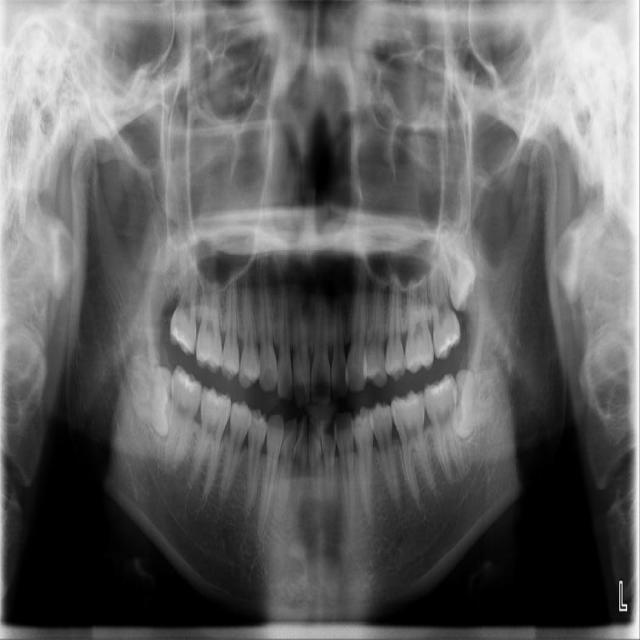impacted tooth: (118, 355, 172, 436), (452, 366, 508, 438), (439, 230, 475, 309)
